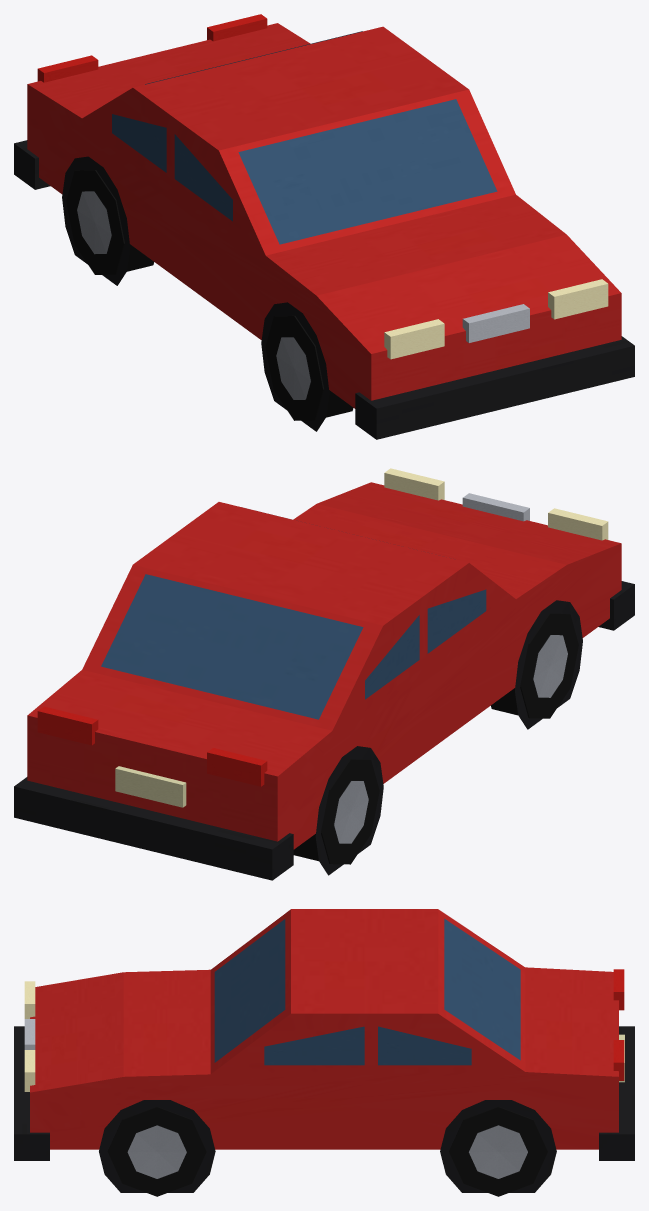
Rendered from saloon-red-far.glb.
The picture shows the model from 3 angles, top to bottom: view 1: azimuth 30°, elevation 25°; view 2: azimuth 150°, elevation 25°; view 3: azimuth 270°, elevation 25°; orthographic projection. The views are drawn at different scales.
Visible parts, largest first — view 1: saloon-red-far; view 2: saloon-red-far; view 3: saloon-red-far.
Boxes of the visible parts, bbox=[...] form: saloon-red-far: bbox=[14, 14, 634, 439]; saloon-red-far: bbox=[14, 468, 634, 880]; saloon-red-far: bbox=[14, 909, 634, 1196].
Size of the model in its own units: 1.91 by 1.5 by 4.64.
1 material, 1 textured.
